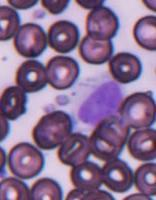L: (74, 73, 124, 130)
